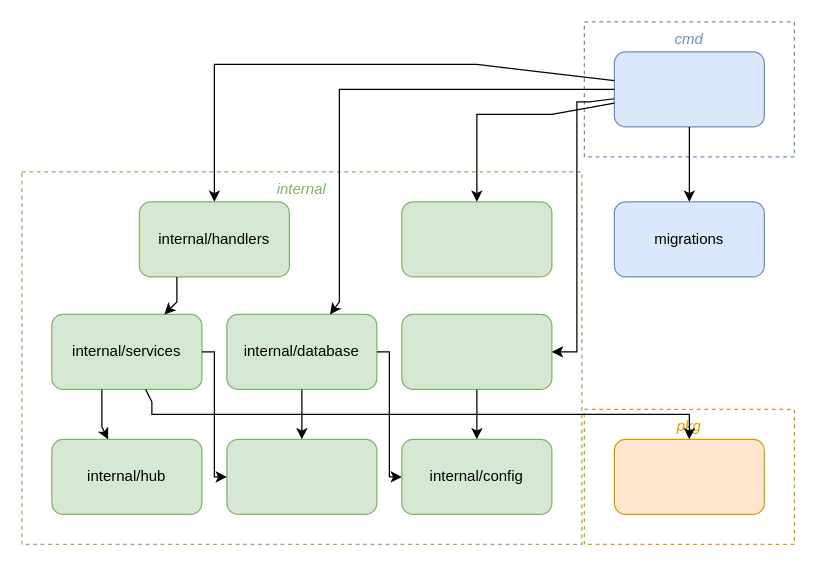
This 816x566 diagram has some shape labels left out. Each missing label, with the centre of its shape:
cmd/server: the point at 688,89
internal/cache: the point at 476,351
internal/middleware: the point at 476,239
internal/models: the point at 301,476
pkg/geo: the point at 688,476
